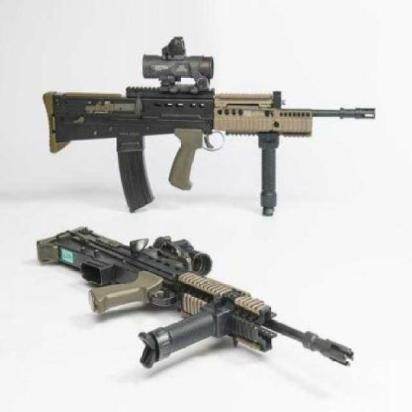Gun: (42, 39, 376, 215), (36, 227, 353, 379)
